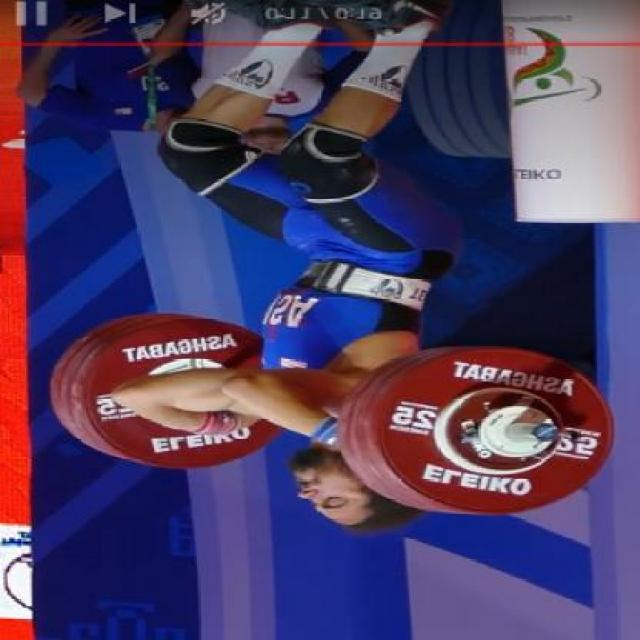Barbell: (524, 421, 562, 447)
